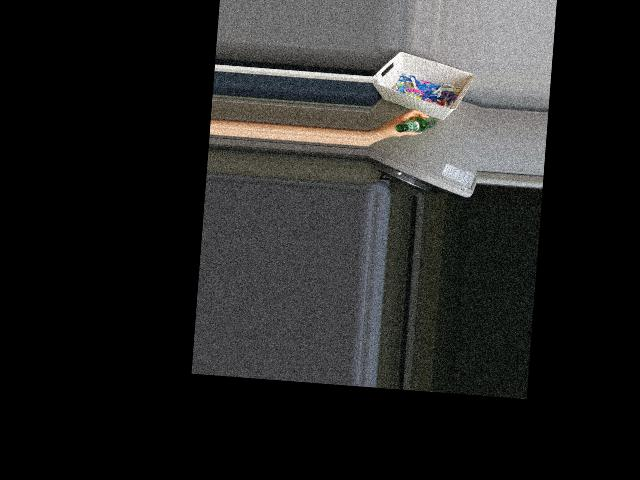beer: (394, 113, 436, 135)
